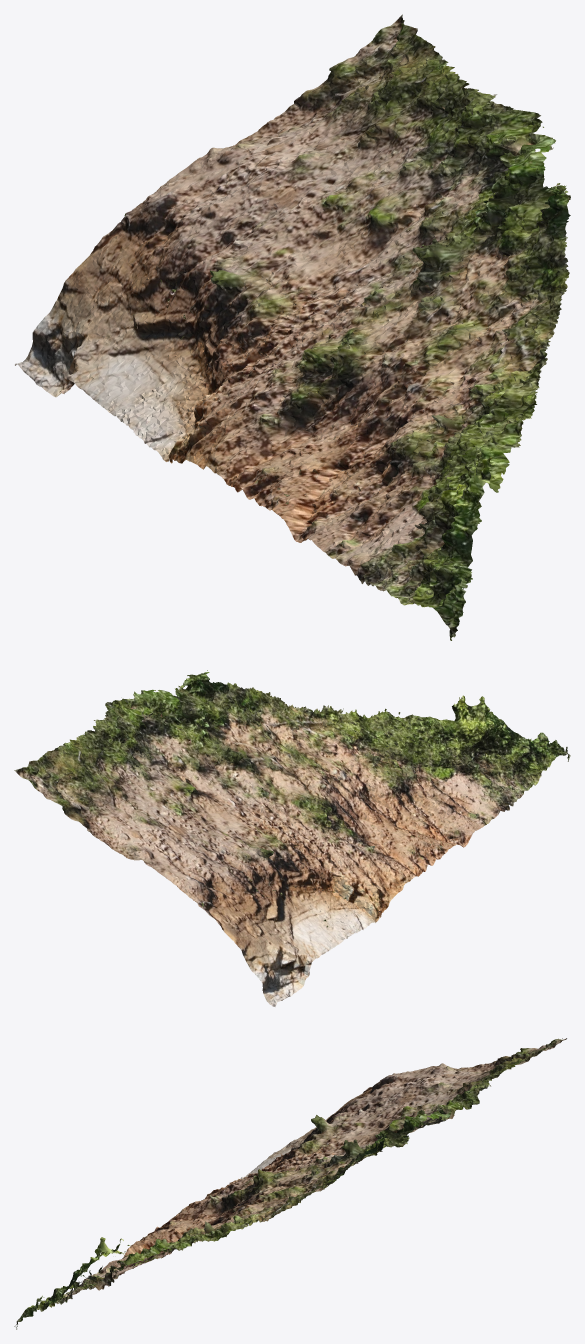
3 renders of one model, top to bottom at view 1: azimuth 30°, elevation 25°; view 2: azimuth 150°, elevation 25°; view 3: azimuth 330°, elevation 25°, orthographic. The views are drawn at different scales.
Size of the model in its own units: 7.75 by 4.93 by 15.19.
Materials: 2 (2 with a texture image).
